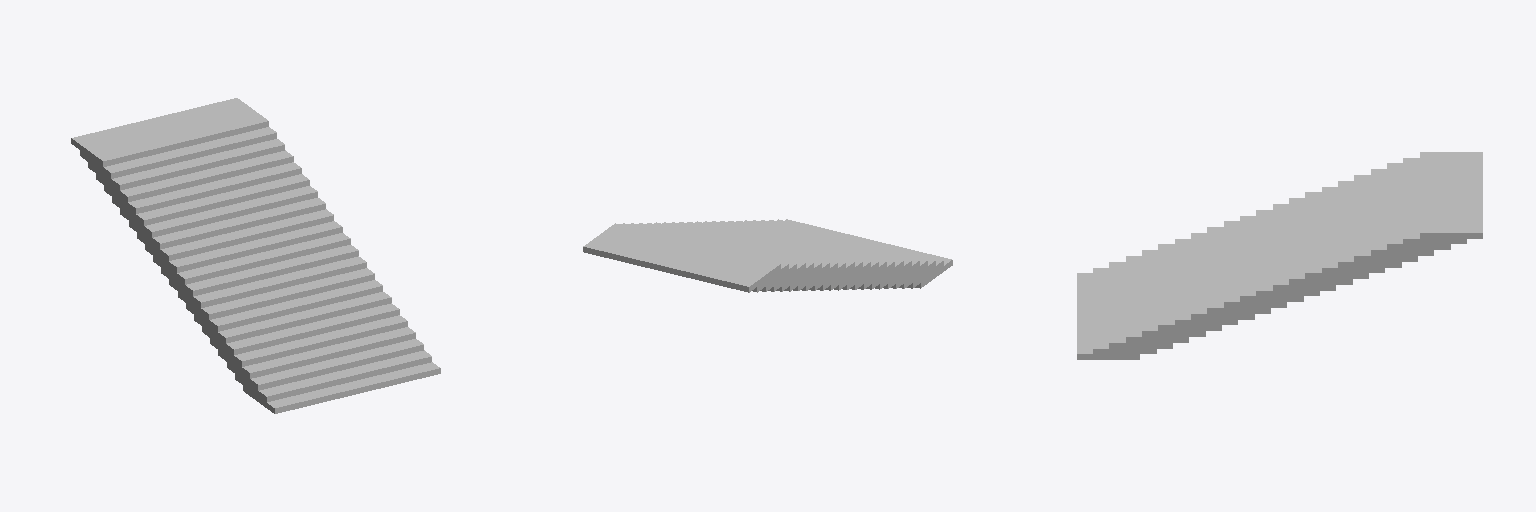
The model's file is stairs_1.obj.
3 views of the same model, side by side, from view 1: azimuth 30°, elevation 25°; view 2: azimuth 150°, elevation 25°; view 3: azimuth 270°, elevation 25° (orthographic).
Parts seen in each view (by area): view 1: polySurface45; view 2: polySurface45; view 3: polySurface45.
Part boxes in pixels (left/top/right/bottom): polySurface45: left=71, top=98, right=440, bottom=413; polySurface45: left=583, top=219, right=952, bottom=292; polySurface45: left=1077, top=152, right=1482, bottom=359.
Size of the model in its own units: 3 by 2.2 by 6.37.